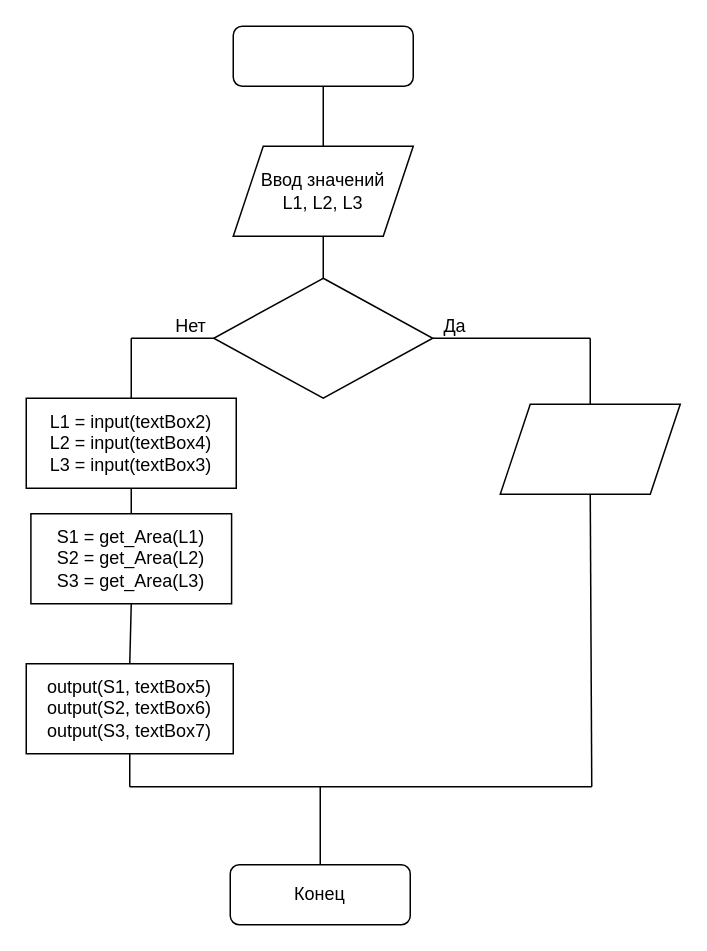
Image size: 707x951. Some labels were removed from this diagram. The centre of each missing label's shape, as x and y in pixels:
Button: the point at 322,55
Вывод сообщения об ошибке: the point at 589,448
Ошибка ввода?: the point at 322,337
